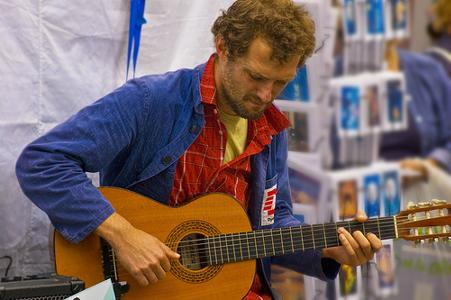person: (15, 3, 384, 299)
